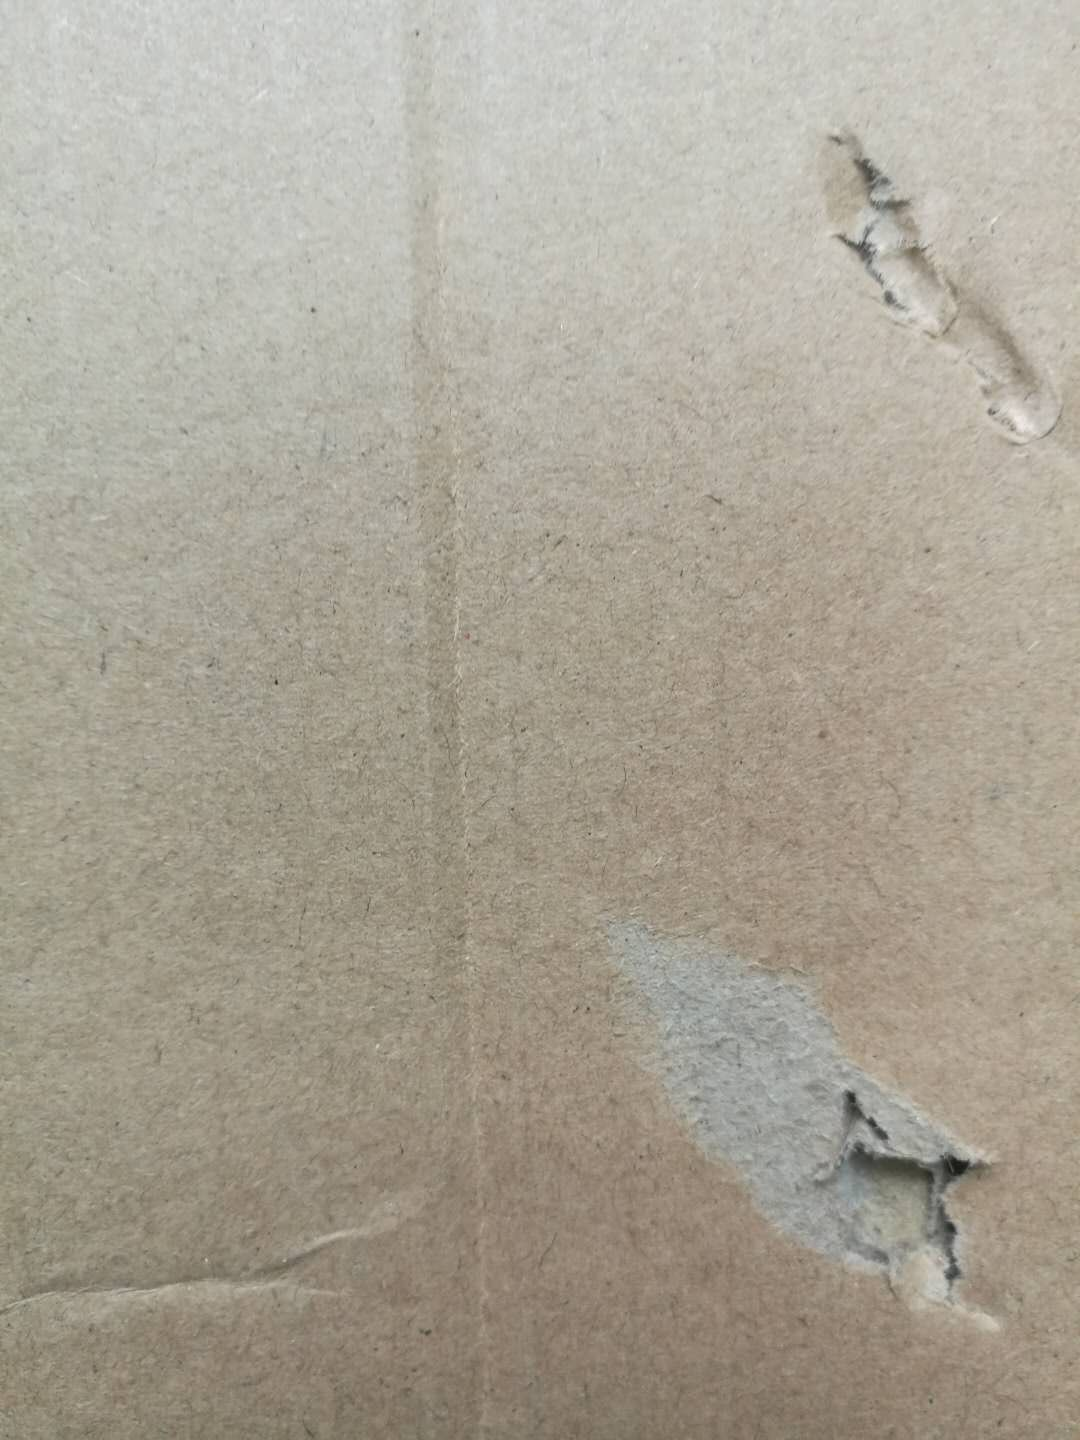defect: (354, 7, 548, 1440), (569, 893, 1037, 1353), (788, 101, 1080, 495), (1, 1152, 446, 1356)
